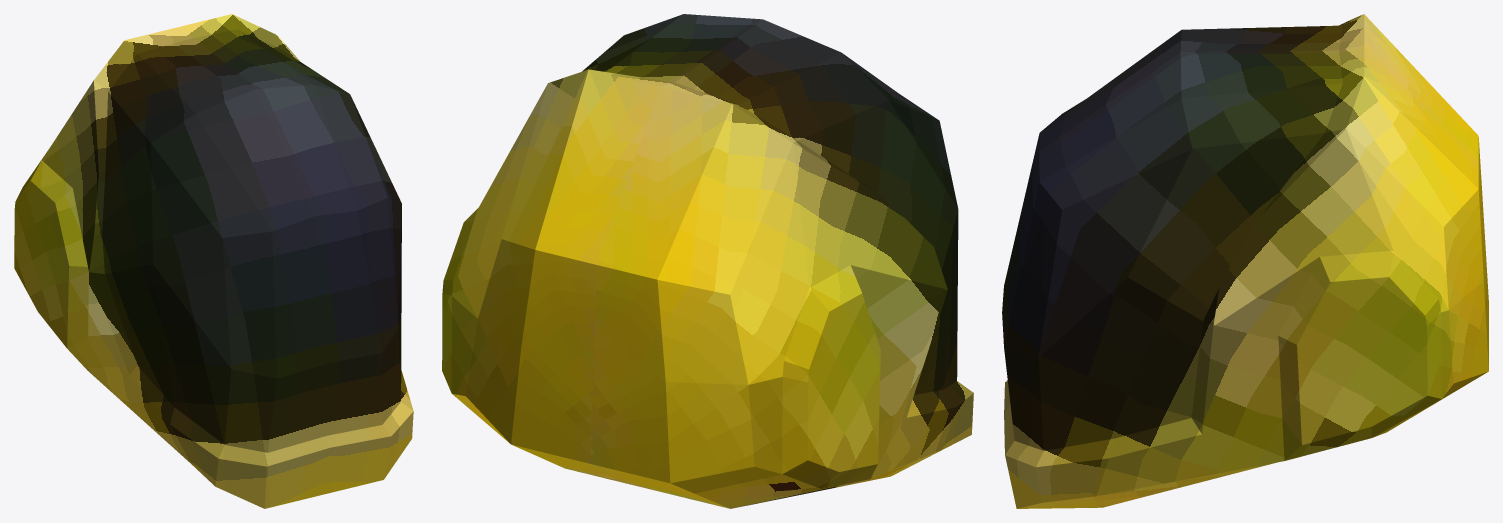
Rendered from daftpunk-transformed.glb.
3 views of the same model, side by side, from view 1: azimuth 30°, elevation 25°; view 2: azimuth 150°, elevation 25°; view 3: azimuth 270°, elevation 25° (orthographic). The views are drawn at different scales.
Parts seen in each view (by area): view 1: daftpunk; view 2: daftpunk; view 3: daftpunk.
Part boxes in pixels (left/top/right/bottom): daftpunk: left=14, top=14, right=413, bottom=508; daftpunk: left=442, top=14, right=973, bottom=508; daftpunk: left=1002, top=14, right=1488, bottom=508.
Bounding box in the file's own units: 9.37 × 10.57 × 10.87.
1 material, 1 textured.
